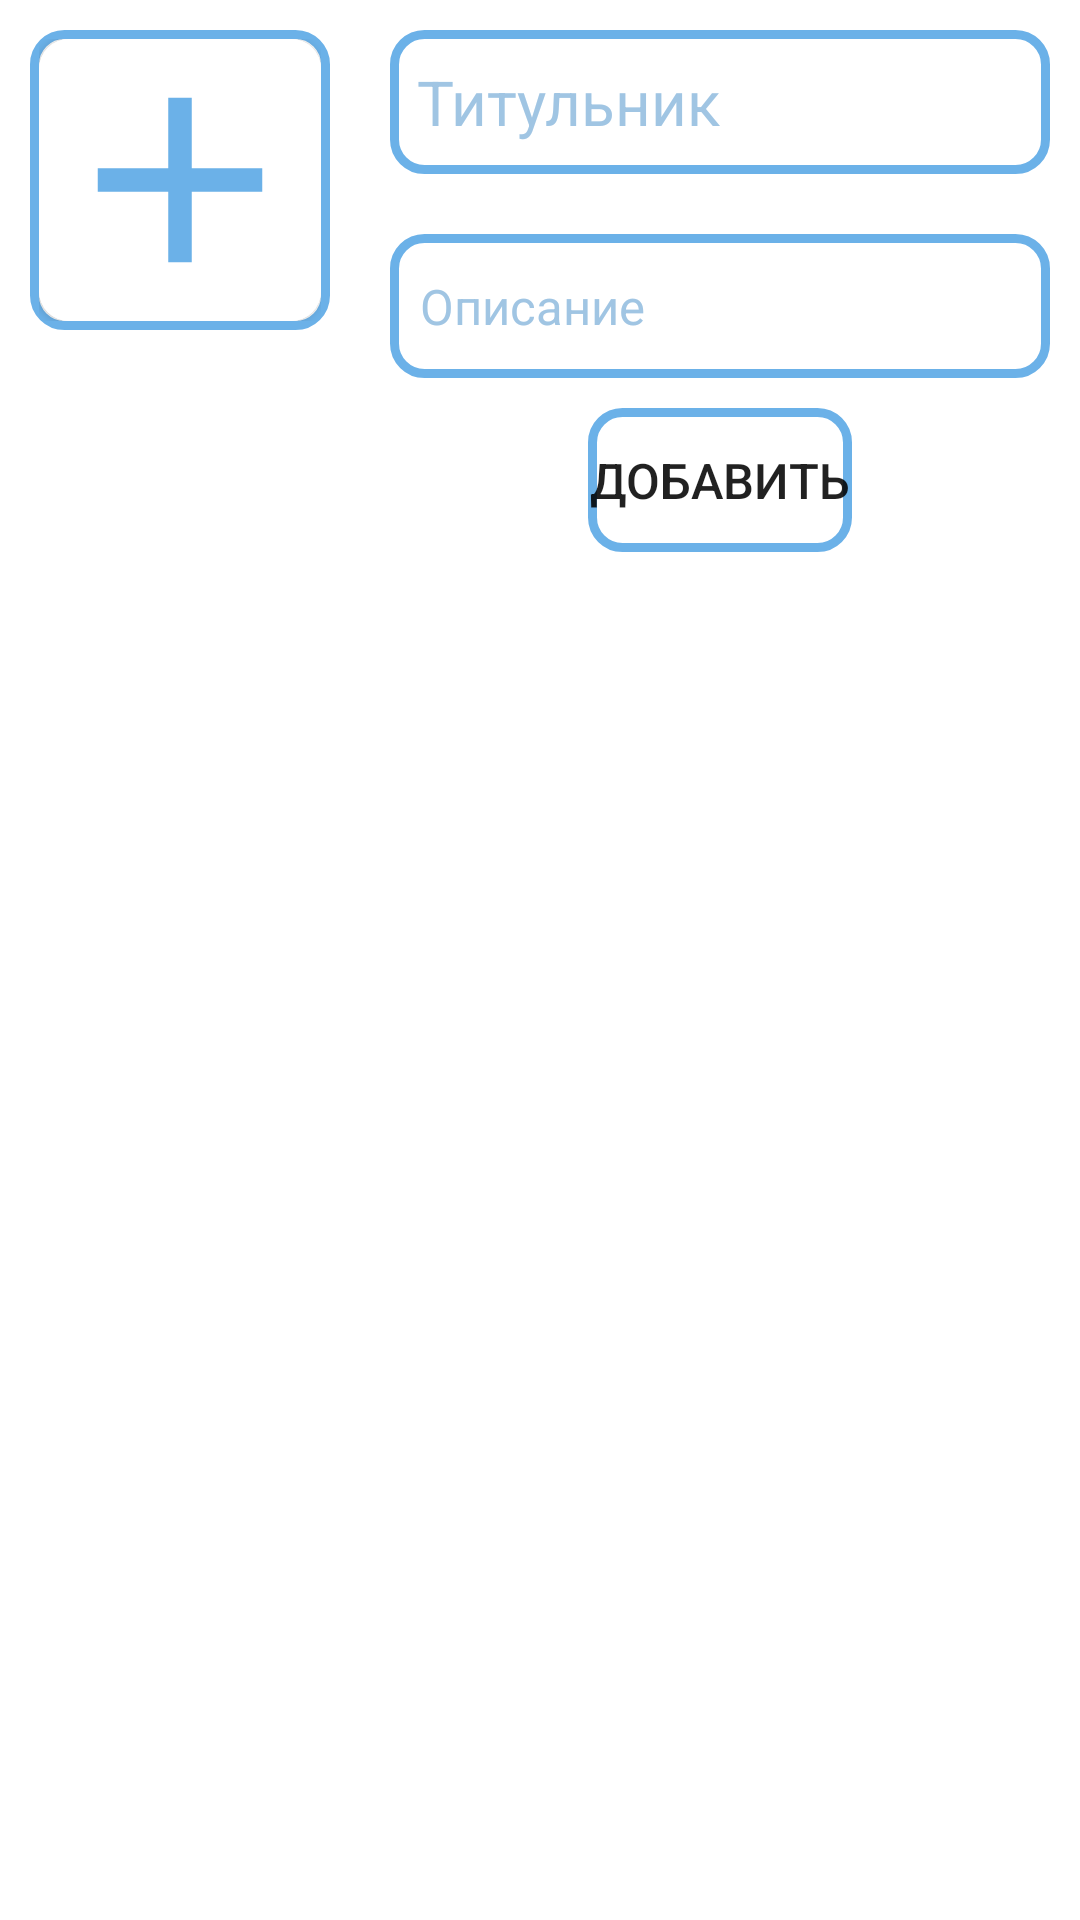

Screen size 1080px x 1920px. Icon name, then its box in pixels as box(x1, y1, x2, y2):
add: box(39, 39, 321, 321)
